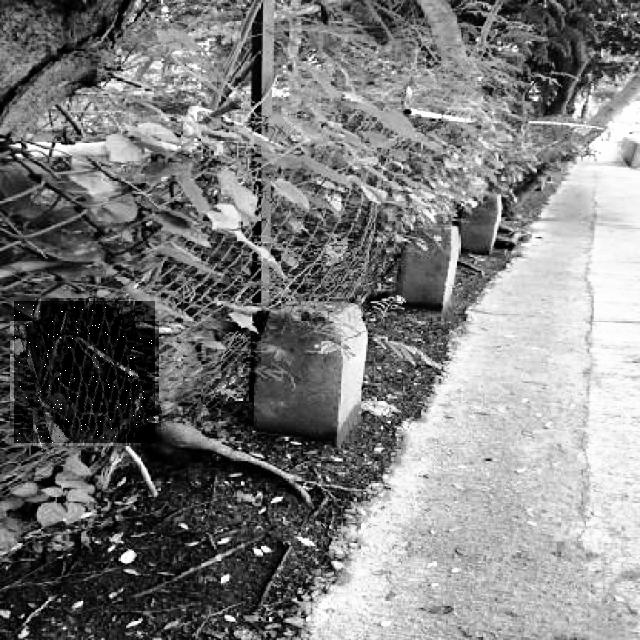fences: (14, 301, 155, 443)
